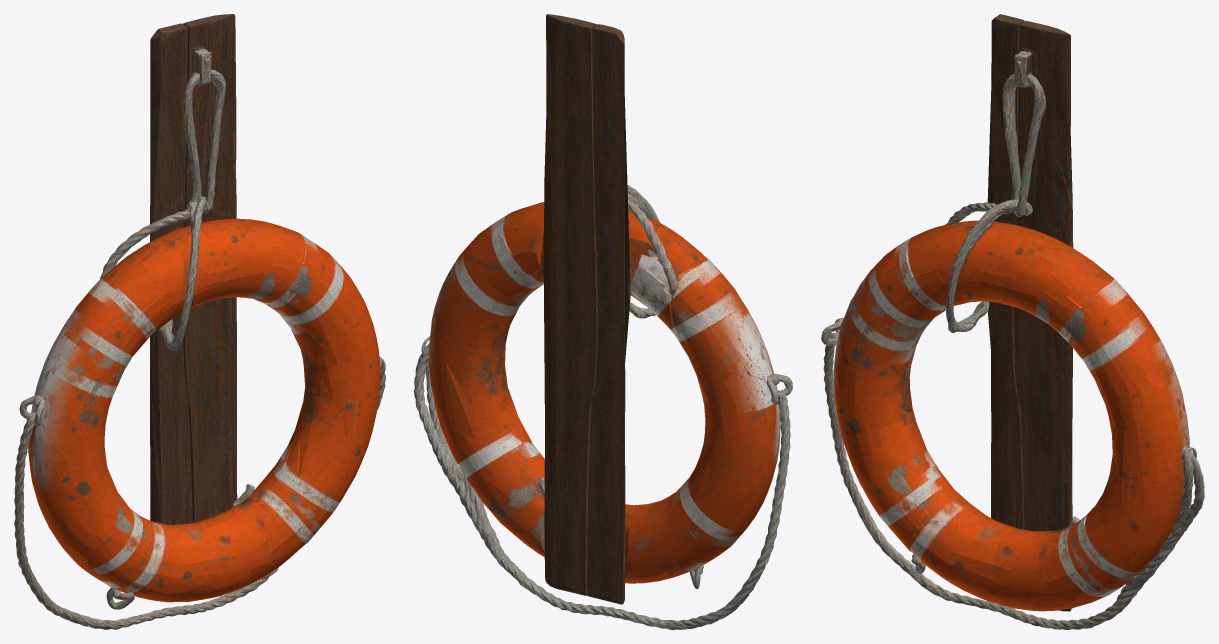
Rendered from salvagente.glb.
3 views of the same model, side by side, from view 1: azimuth 30°, elevation 25°; view 2: azimuth 150°, elevation 25°; view 3: azimuth 330°, elevation 25° (orthographic).
Parts seen in each view (by area): view 1: Mesh_0; view 2: Mesh_0; view 3: Mesh_0.
Part boxes in pixels (bbox=[...]): Mesh_0: bbox=[14, 14, 385, 629]; Mesh_0: bbox=[414, 14, 792, 629]; Mesh_0: bbox=[821, 14, 1204, 629].
Bounding box in the file's own units: 0.917 × 1.4 × 0.1783.
Materials: 1 (1 with a texture image).
